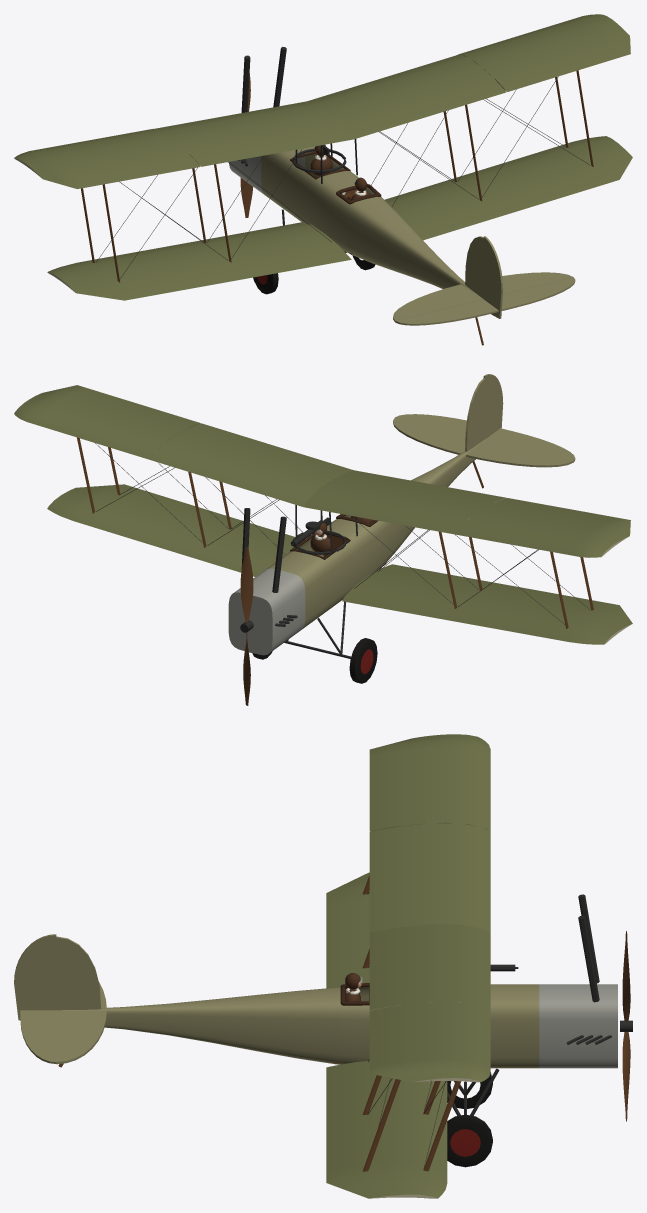
3 renders of one model, top to bottom at view 1: azimuth 30°, elevation 25°; view 2: azimuth 150°, elevation 25°; view 3: azimuth 270°, elevation 25°, orthographic. The views are drawn at different scales.
Parts seen in each view (by area): view 1: Wing_Upper_R, Wing_Lower_L, Wing_Upper_L, Fuselage, Wing_Lower_R, Aileron_R, Aileron_L, Elevator, Struts, Wires, Stabilizer_L, Rudder (+5 smaller); view 2: Wing_Upper_R, Wing_Upper_L, Wing_Lower_L, Fuselage, Wing_Lower_R, Struts, Elevator, Stabilizer_L, Stabilizer_R, Aileron_R, Wires, PropBlades (+6 smaller); view 3: Fuselage, Wing_Upper_L, Wing_Upper_R, Wing_Lower_R, Wing_Lower_L, Rudder, Aileron_L, Fin, Wheels, Aileron_R, Stabilizer_R, Struts (+3 smaller).
Boxes of the visible parts, box(x1,y1,x2,y2) form: Wing_Upper_R: box(307, 14, 622, 139); Wing_Lower_L: box(47, 222, 351, 300); Wing_Upper_L: box(14, 101, 353, 174); Fuselage: box(229, 146, 482, 298); Wing_Lower_R: box(384, 136, 632, 240); Aileron_R: box(494, 28, 630, 91); Aileron_L: box(35, 152, 200, 189); Elevator: box(395, 277, 575, 325); Struts: box(81, 70, 593, 282); Wires: box(96, 76, 590, 278); Stabilizer_L: box(393, 284, 482, 321); Rudder: box(483, 236, 503, 318); Wing_Upper_R: box(14, 390, 353, 506); Wing_Upper_L: box(304, 470, 622, 557); Wing_Lower_L: box(342, 564, 632, 644); Fuselage: box(228, 440, 483, 655); Wing_Lower_R: box(47, 484, 297, 576); Struts: box(77, 437, 593, 628); Elevator: box(396, 414, 575, 461); Stabilizer_L: box(466, 439, 573, 467); Stabilizer_R: box(393, 417, 465, 454); Aileron_R: box(36, 385, 200, 427); Wires: box(95, 443, 590, 624); PropBlades: box(240, 547, 253, 705); Fuselage: box(62, 984, 617, 1068); Wing_Upper_L: box(369, 734, 490, 932); Wing_Upper_R: box(369, 924, 490, 1082); Wing_Lower_R: box(326, 1060, 447, 1198); Wing_Lower_L: box(326, 872, 369, 988); Rudder: box(14, 934, 56, 1020); Aileron_L: box(369, 736, 428, 831); Fin: box(56, 936, 100, 1010); Wheels: box(447, 1072, 492, 1167); Aileron_R: box(369, 1005, 429, 1082); Stabilizer_R: box(56, 1010, 106, 1064); Struts: box(362, 875, 460, 1171).
Bounding box in the file's own units: 11.28 × 3.58 × 8.58.
